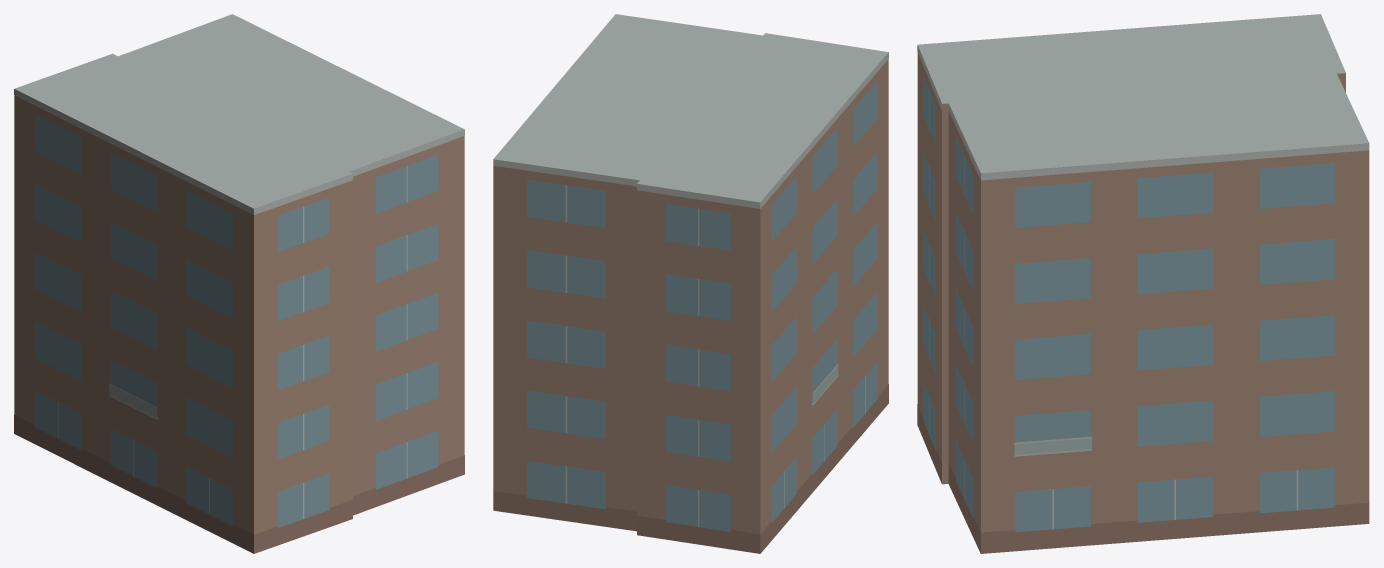
File: survey-upis-32977825.glb
The picture shows the model from 3 angles, left to right: view 1: azimuth 30°, elevation 25°; view 2: azimuth 150°, elevation 25°; view 3: azimuth 270°, elevation 25°; orthographic projection. The views are drawn at different scales.
Parts seen in each view (by area): view 1: survey-upis-32977825.tmp; view 2: survey-upis-32977825.tmp; view 3: survey-upis-32977825.tmp.
Boxes of the visible parts, x1,y1,x2,y2 form: survey-upis-32977825.tmp: (14,14,464,553); survey-upis-32977825.tmp: (493,14,888,553); survey-upis-32977825.tmp: (917,14,1369,553).
Bounding box in the file's own units: 11.87 × 13.2 × 14.22.
